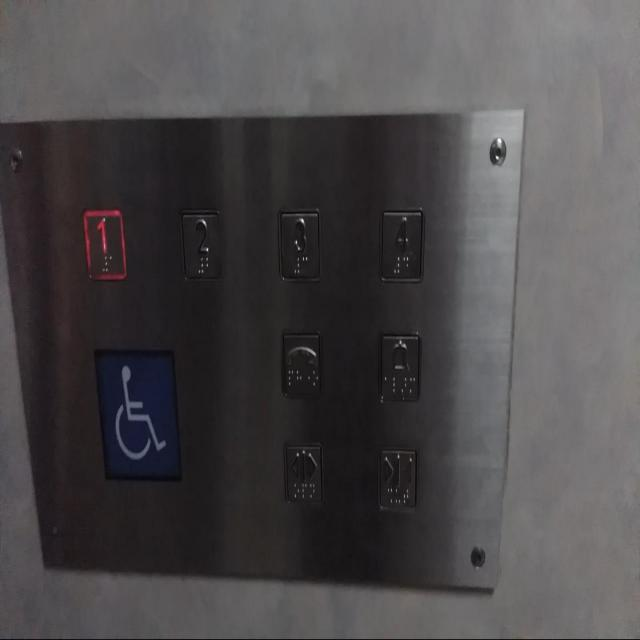1: (82, 207, 126, 280)
2: (178, 207, 222, 280)
3: (278, 208, 320, 282)
4: (379, 207, 424, 281)
CH: (94, 346, 182, 482)
alarm: (376, 332, 421, 402)
call: (278, 328, 324, 399)
close: (376, 444, 418, 509)
open: (282, 439, 323, 503)
